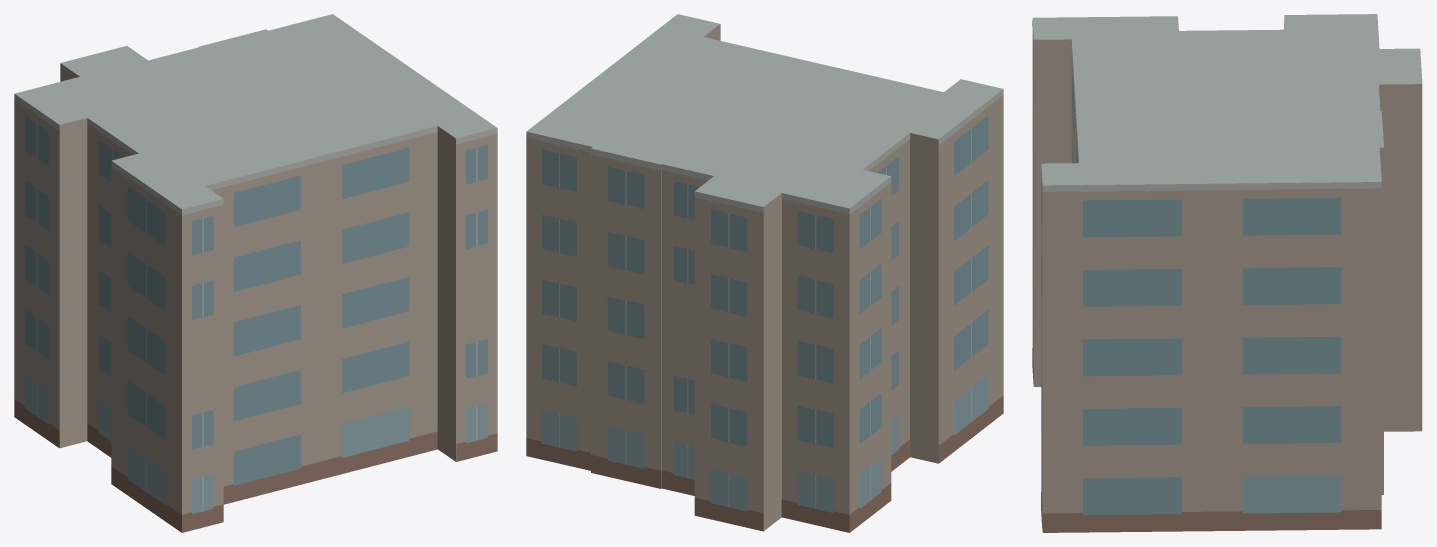
File: survey-upis-32560169.glb
3 renders of one model, left to right at view 1: azimuth 30°, elevation 25°; view 2: azimuth 150°, elevation 25°; view 3: azimuth 270°, elevation 25°, orthographic. The views are drawn at different scales.
Visible parts, largest first — view 1: survey-upis-32560169.tmp; view 2: survey-upis-32560169.tmp; view 3: survey-upis-32560169.tmp.
Part boxes in pixels (<box>): survey-upis-32560169.tmp: <box>14,14,497,532</box>; survey-upis-32560169.tmp: <box>526,14,1003,532</box>; survey-upis-32560169.tmp: <box>1032,14,1422,532</box>.
Bounding box in the file's own units: 13.99 × 13.2 × 13.44.
